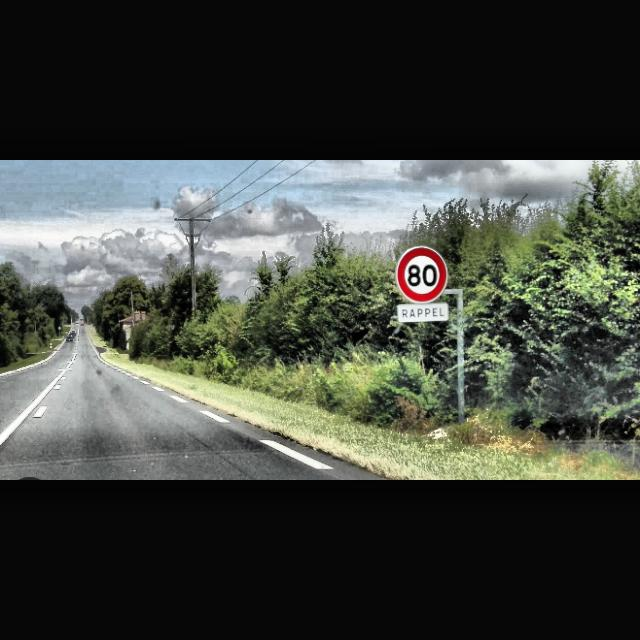speed_80: (396, 245, 448, 303)
